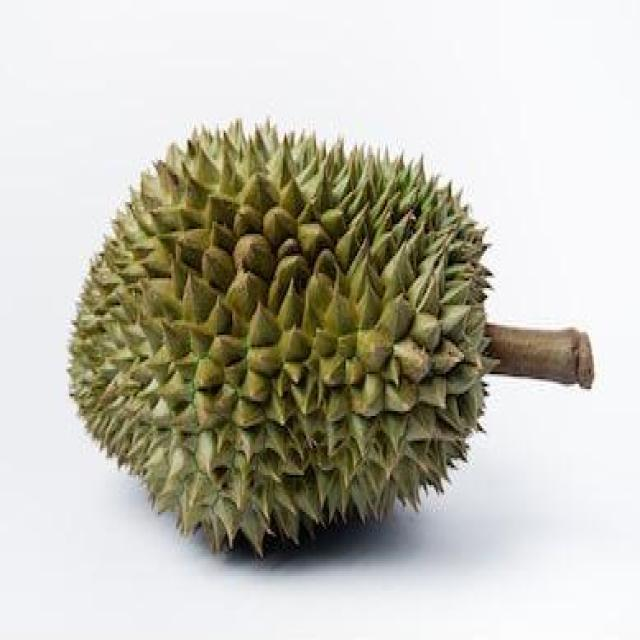immature: (68, 117, 503, 561)
